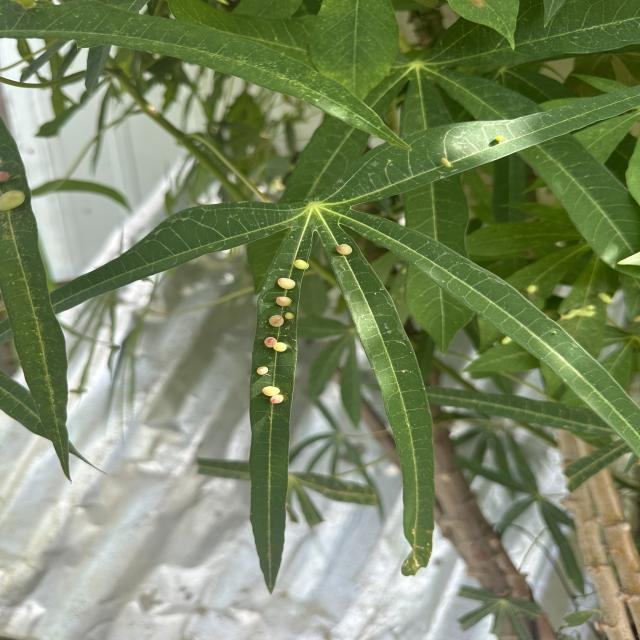Mosca: (250, 358, 289, 411), (0, 161, 36, 214), (255, 327, 298, 358), (272, 269, 300, 311), (554, 304, 601, 327), (332, 234, 364, 265), (262, 308, 302, 331), (290, 248, 319, 279), (516, 274, 539, 304), (486, 332, 521, 350), (483, 126, 514, 146), (433, 149, 456, 175), (593, 287, 619, 306)
